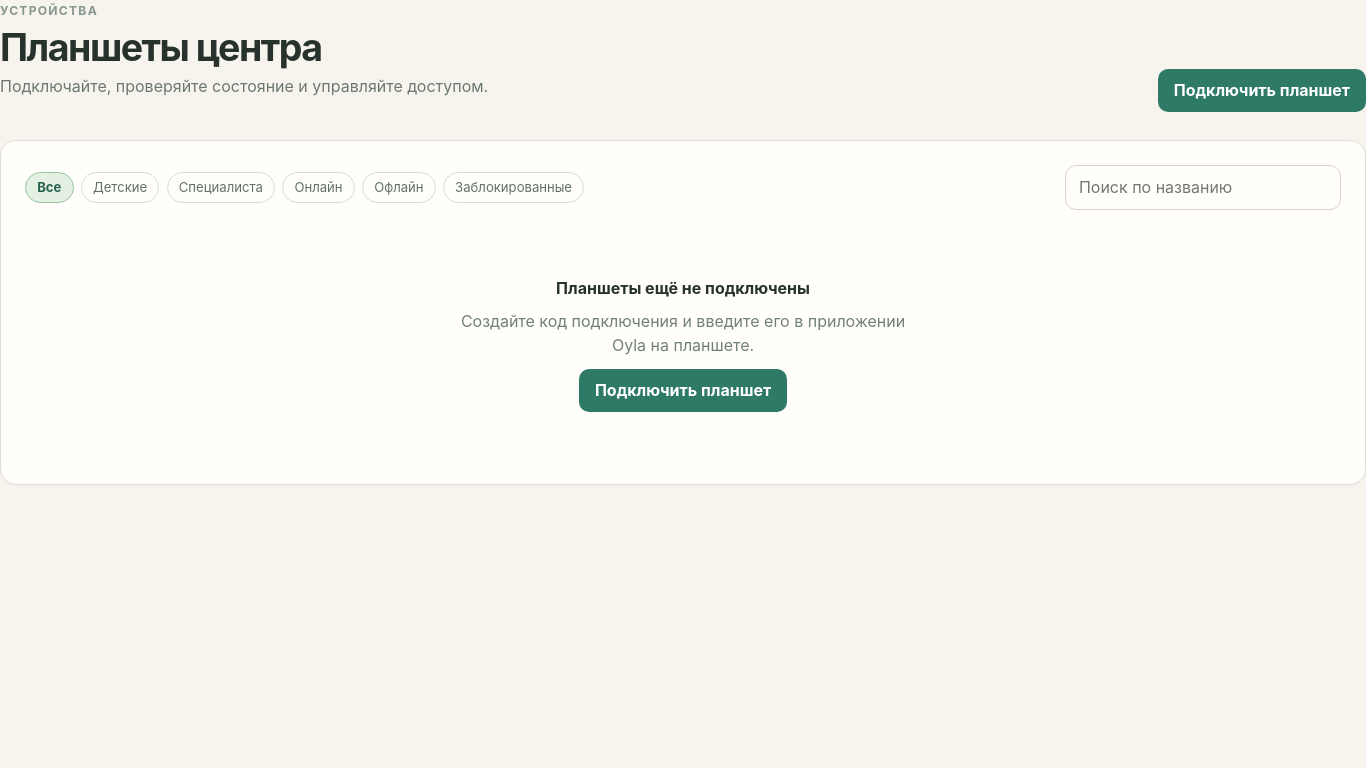
Test case: web device flow › marks an expired activation code as expired
Expected: the text "Планшеты ещё не подключены" is shown, [556,278,810,298]
Click the 1st button "Подключить планшет".
click(1262, 90)  # box [1158,69,1365,112]
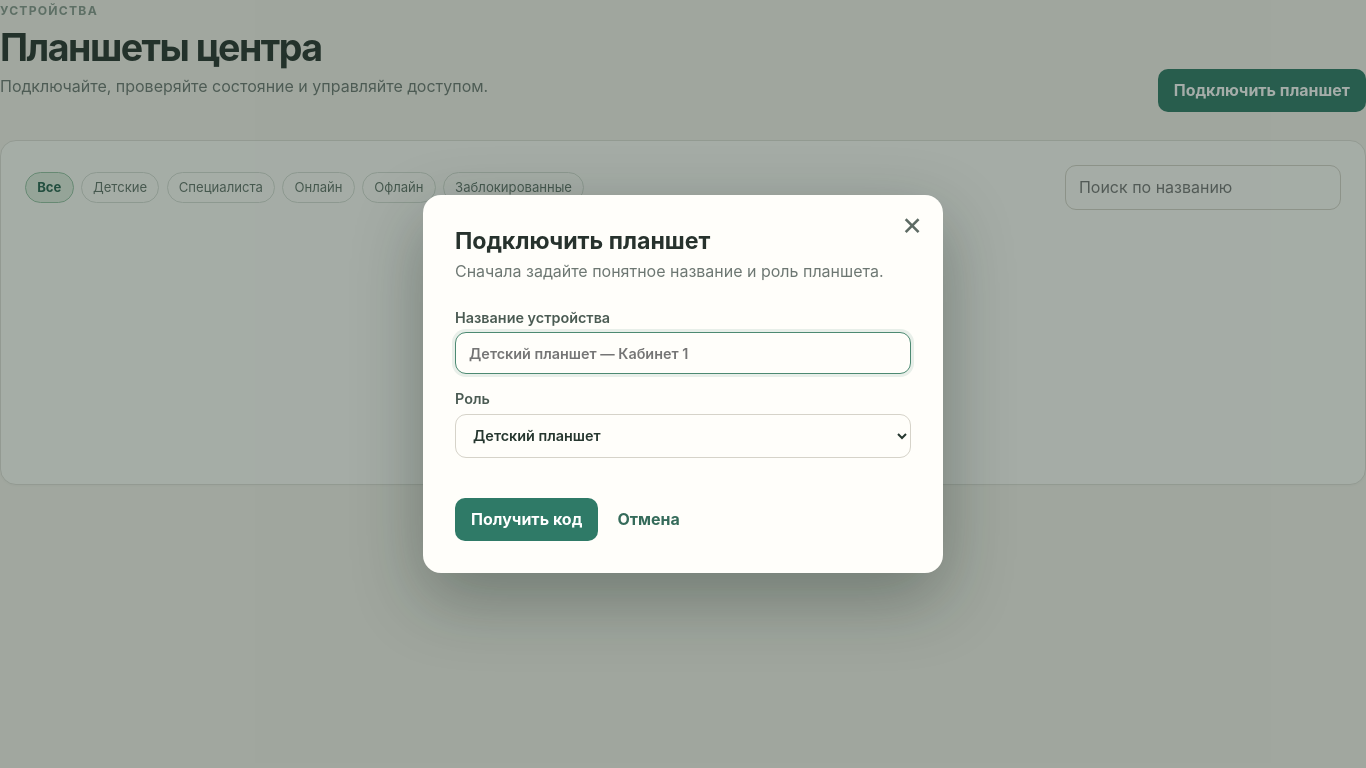
Type "Кабинет 1" into the field labelled "Название устройства".
click(683, 353); type("Кабинет 1")  # box [455,332,911,374]
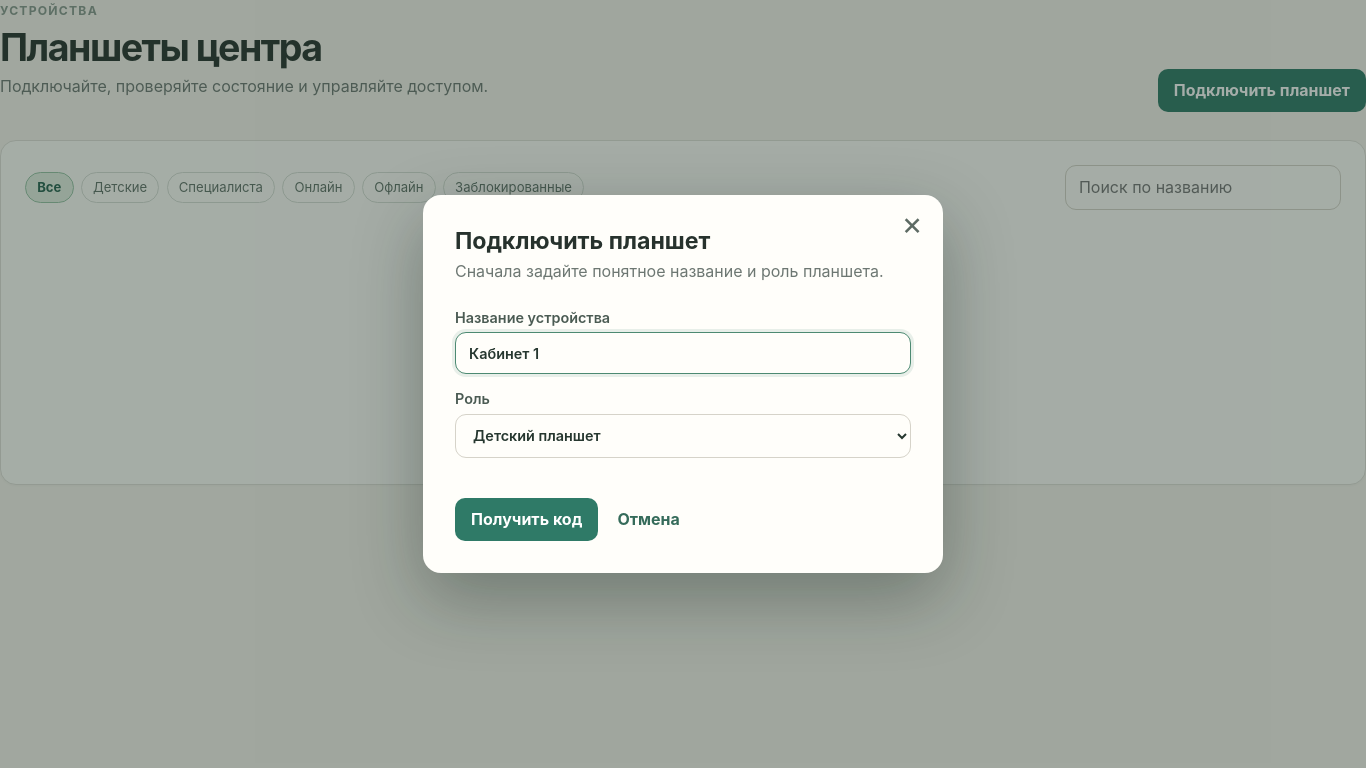
Click the button "Получить код".
click(527, 519)  # box [455,498,598,541]
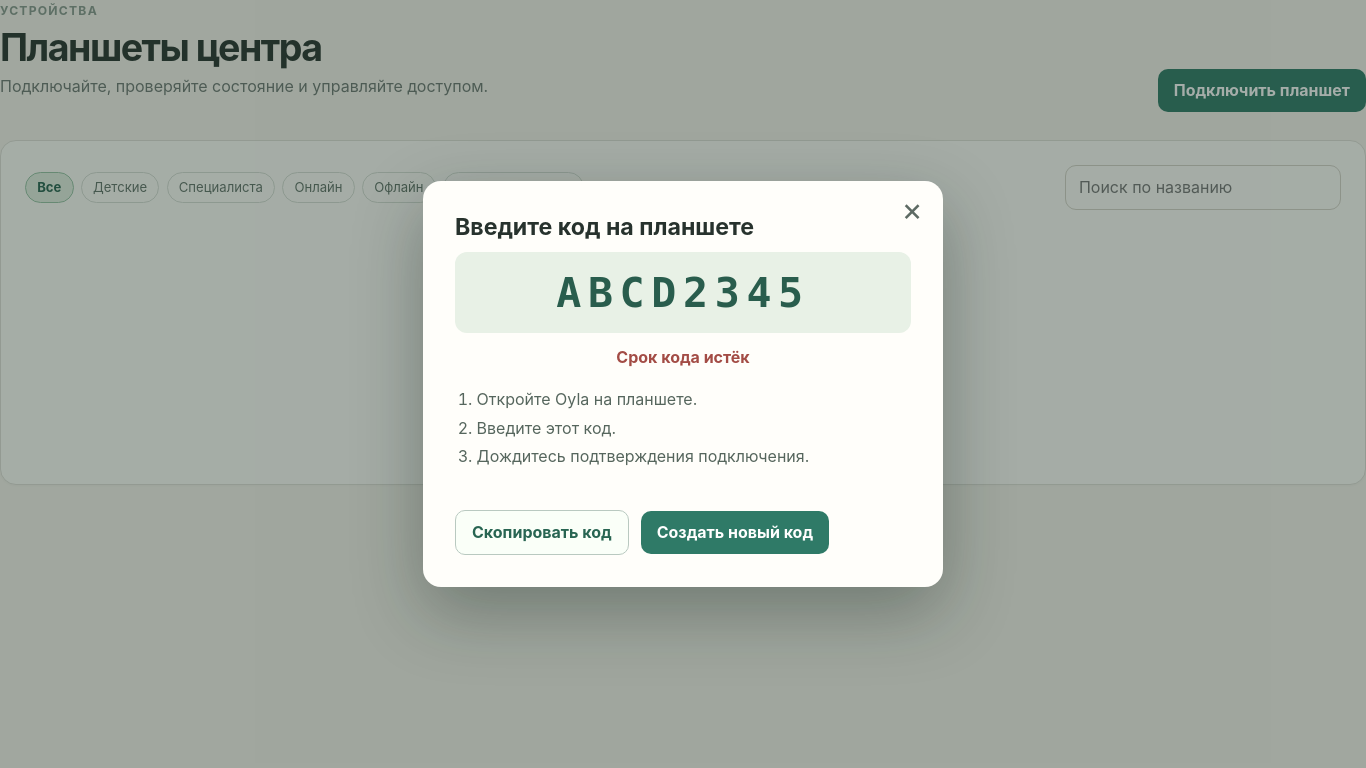
Expected: the text "Срок кода истёк" is shown, [616,347,750,367]
